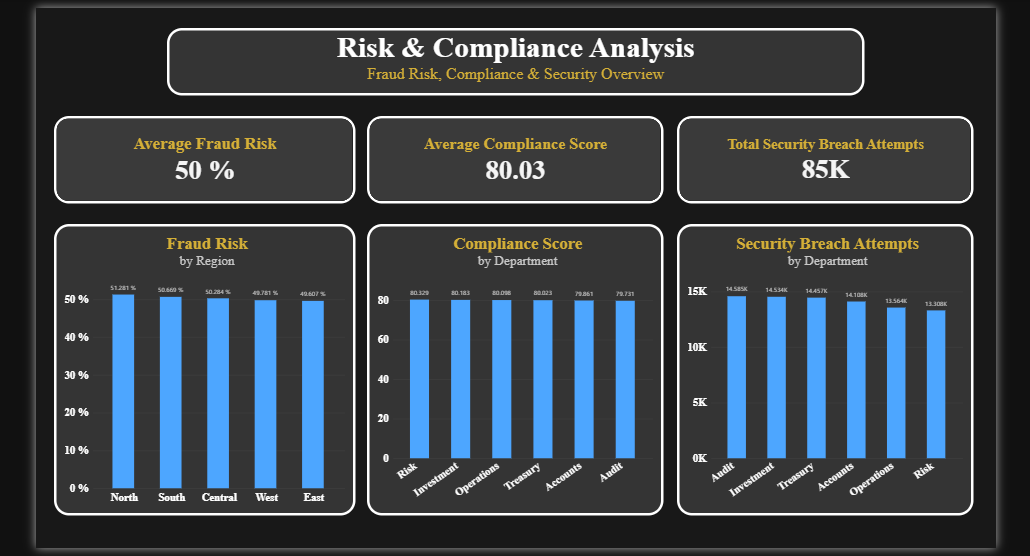

This screenshot's page, from the dashboard's own definition file:
{"tool":"powerbi","page":{"name":"Risk & Compliance Analysis","canvas":[1920,1080],"ordinal":2},"visuals":[{"type":"cardVisual","fields":{"Data":["Avg(Fact_Financial_Performance.Fraud_Risk_Score)"]},"box":[35,215,602.5,175],"z":0},{"type":"cardVisual","fields":{"Data":["Avg(Fact_Financial_Performance.Compliance_Score)"]},"box":[662.5,215,592.5,175],"z":1000},{"type":"cardVisual","fields":{"Data":["Sum(Fact_Financial_Performance.Security_Breach_Attempts)"]},"box":[1282.5,215,592.5,175],"z":2000},{"type":"clusteredColumnChart","title":" Fraud Risk ","fields":{"Category":["Dim_Region.Region"],"Y":["Avg(Fact_Financial_Performance.Fraud_Risk_Score)"]},"box":[35,432.5,602.5,582.5],"z":3000},{"type":"clusteredColumnChart","title":"Compliance Score","fields":{"Category":["Dim_Department.Department"],"Y":["Avg(Fact_Financial_Performance.Compliance_Score)"]},"box":[662.5,432.5,592.5,582.5],"z":4000},{"type":"textbox","box":[262.5,40,1395,135],"z":5000},{"type":"clusteredColumnChart","title":"Security Breach Attempts","fields":{"Category":["Dim_Department.Department"],"Y":["Sum(Fact_Financial_Performance.Security_Breach_Attempts)"]},"box":[1282.5,432.5,592.5,582.5],"z":6000}]}

Visuals, with their boxes in screenshot pixels (x1, y1, x2, y2):
cardVisual - Avg(Fact_Financial_Performance.Fraud_Risk_Score): box(60, 116, 355, 201)
cardVisual - Avg(Fact_Financial_Performance.Compliance_Score): box(367, 116, 657, 201)
cardVisual - Sum(Fact_Financial_Performance.Security_Breach_Attempts): box(670, 116, 960, 201)
" Fraud Risk " clusteredColumnChart: box(60, 222, 355, 507)
"Compliance Score" clusteredColumnChart: box(367, 222, 657, 507)
textbox: box(171, 30, 853, 96)
"Security Breach Attempts" clusteredColumnChart: box(670, 222, 960, 507)
